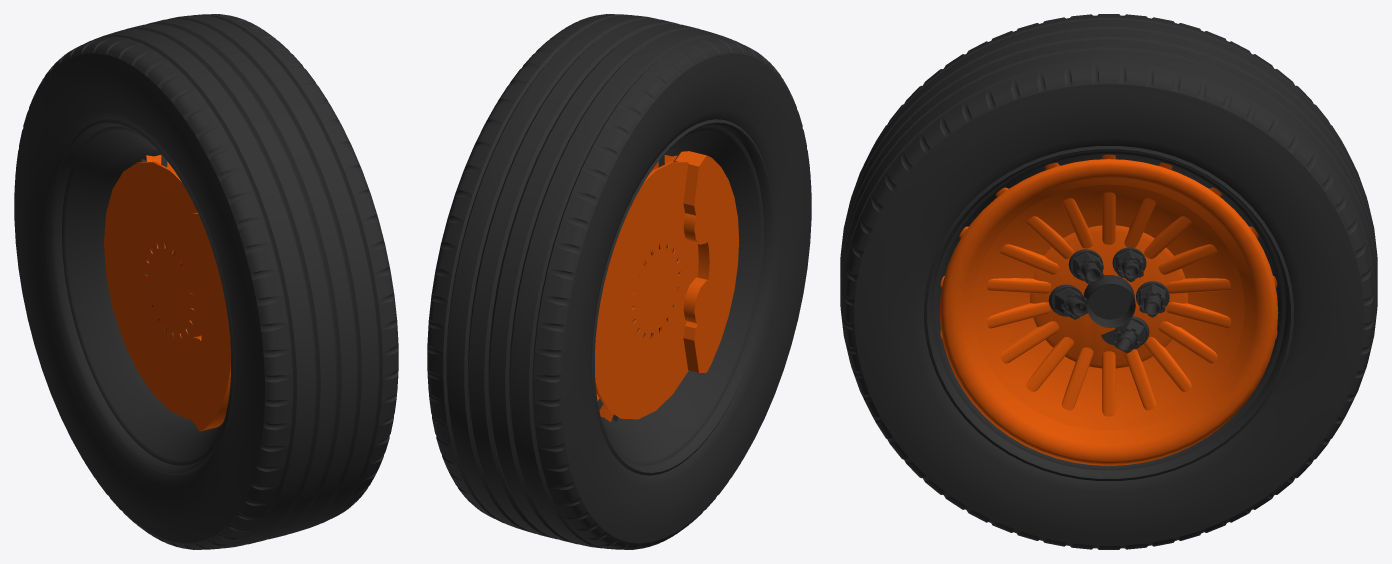
Rendered from wheel_left.glb.
3 renders of one model, left to right at view 1: azimuth 30°, elevation 25°; view 2: azimuth 150°, elevation 25°; view 3: azimuth 270°, elevation 25°, orthographic.
Visible parts, largest first — view 1: wheel_rear_left; view 2: wheel_rear_left; view 3: wheel_rear_left.
Boxes of the visible parts, left/top/right/bottom form: wheel_rear_left: left=14, top=14, right=398, bottom=549; wheel_rear_left: left=427, top=14, right=811, bottom=549; wheel_rear_left: left=840, top=14, right=1377, bottom=549.
Size of the model in its own units: 0.1744 by 0.5754 by 0.5754.
